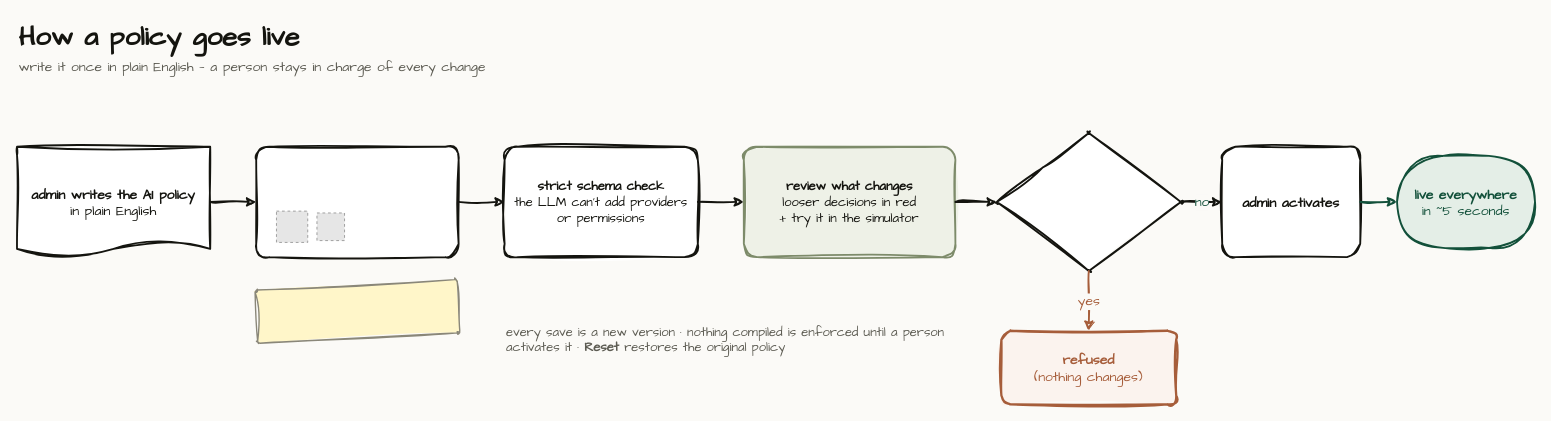
This 1551x421 diagram has some shape labels left out. Grey dashed boxes stand in for pictures. The shapes that lost their labels are listed below. From the top down, each one's box as (x1, y1, x2, y2) in pixels, then its label:
(255, 145, 459, 258): LLM compiler drafts the rules
(995, 132, 1181, 271): looser than the baseline floor ?
(254, 278, 460, 344): drafts only — never enforces
